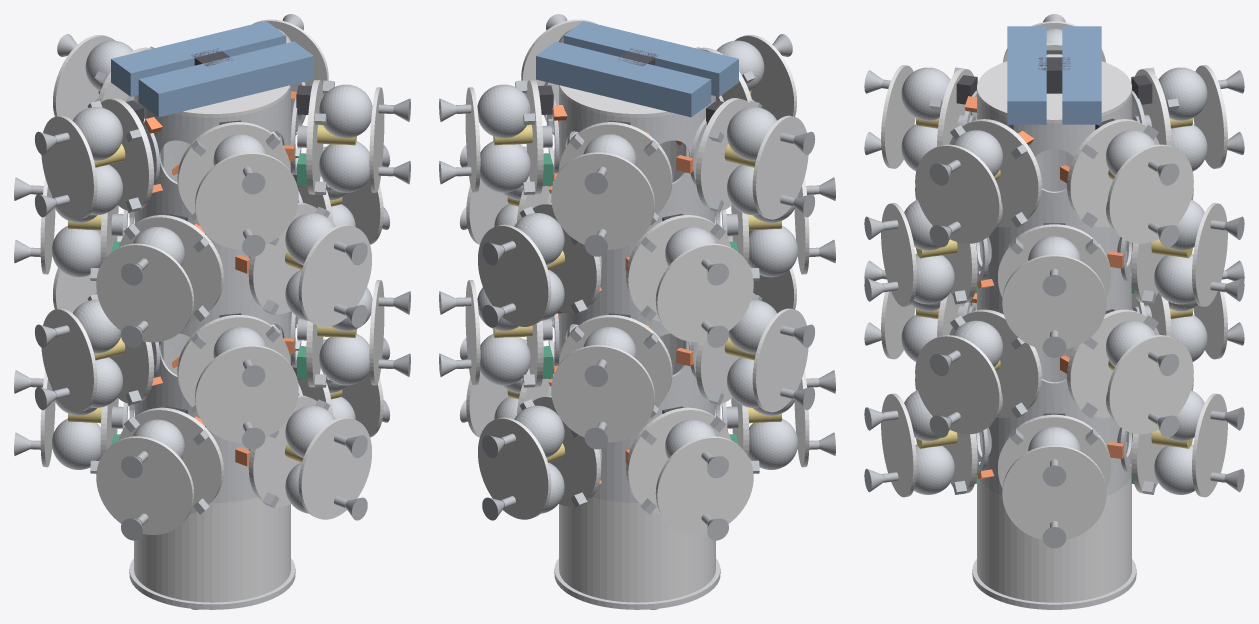
The model's file is v7_carrier_4ring_stowed.glb.
The picture shows the model from 3 angles, left to right: view 1: azimuth 30°, elevation 25°; view 2: azimuth 150°, elevation 25°; view 3: azimuth 270°, elevation 25°; orthographic projection.
Parts seen in each view (by area): view 1: bus, wing_1, k33_top, k13_top, k23_top, k03_top, k24_top, k04_top, wing_0, ring_3, k12_top, k32_top (+44 smaller); view 2: bus, wing_0, k31_top, k11_top, k22_top, k02_top, k21_top, k01_top, wing_1, ring_3, k12_top, k32_top (+44 smaller); view 3: bus, k00_top, k20_top, k10_top, k14_top, k30_top, k34_top, ring_2, ring_0, wing_0, wing_1, k30_deck (+47 smaller).
Part boxes in pixels (<box>): bus: <box>134,497,290,602</box>; wing_1: <box>138,41,313,117</box>; k33_top: <box>195,152,298,249</box>; k13_top: <box>195,345,298,442</box>; k23_top: <box>96,243,194,342</box>; k03_top: <box>96,436,194,534</box>; k24_top: <box>298,224,371,326</box>; k04_top: <box>298,417,371,519</box>; wing_0: <box>111,21,286,96</box>; ring_3: <box>134,86,290,212</box>; k12_top: <box>41,308,97,412</box>; k32_top: <box>41,115,97,219</box>; bus: <box>559,497,715,602</box>; wing_0: <box>536,41,711,117</box>; k31_top: <box>551,152,654,249</box>; k11_top: <box>551,345,654,442</box>; k22_top: <box>655,243,753,342</box>; k02_top: <box>655,436,753,534</box>; k21_top: <box>478,224,551,326</box>; k01_top: <box>478,417,551,519</box>; wing_1: <box>563,21,738,96</box>; ring_3: <box>559,86,715,212</box>; k12_top: <box>752,308,808,412</box>; k32_top: <box>752,115,808,219</box>; bus: <box>977,475,1131,602</box>; k00_top: <box>1002,445,1106,539</box>; k20_top: <box>1002,254,1106,349</box>; k10_top: <box>1107,335,1193,434</box>; k14_top: <box>915,335,1001,434</box>; k30_top: <box>1107,144,1193,243</box>; k34_top: <box>915,144,1001,243</box>; ring_2: <box>977,154,1131,304</box>; ring_0: <box>977,347,1131,495</box>; wing_0: <box>1062,26,1101,124</box>; wing_1: <box>1007,26,1046,124</box>; k30_deck: <box>1067,119,1159,227</box>.
Size of the model in its own units: 3.98 by 5.81 by 3.86.
